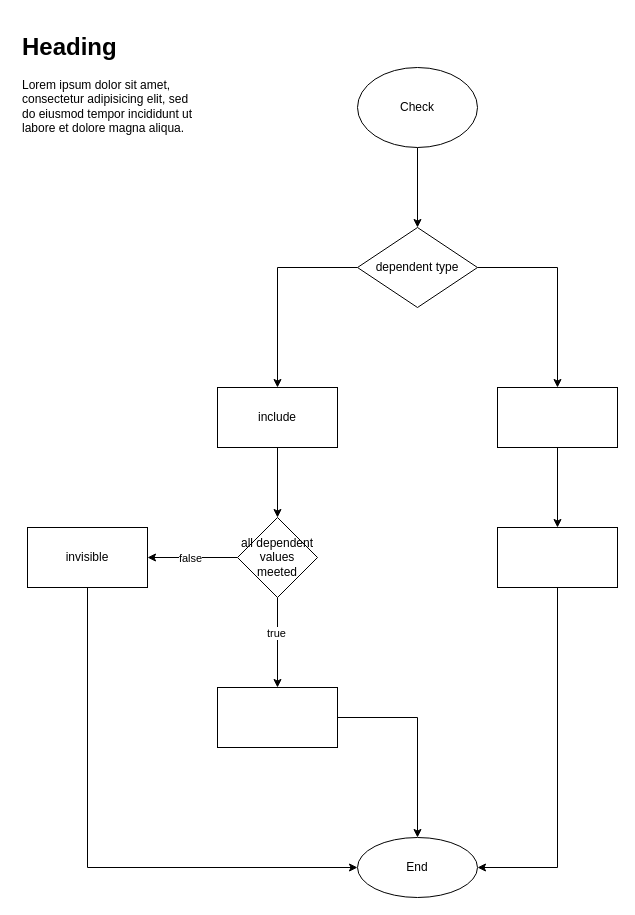
Image size: 635x915. Some labels were removed from this diagram. The centre of each missing label's shape, as x and y in pixels:
cascade: [557,417]
Reload: [557,557]
visible: [277,717]
